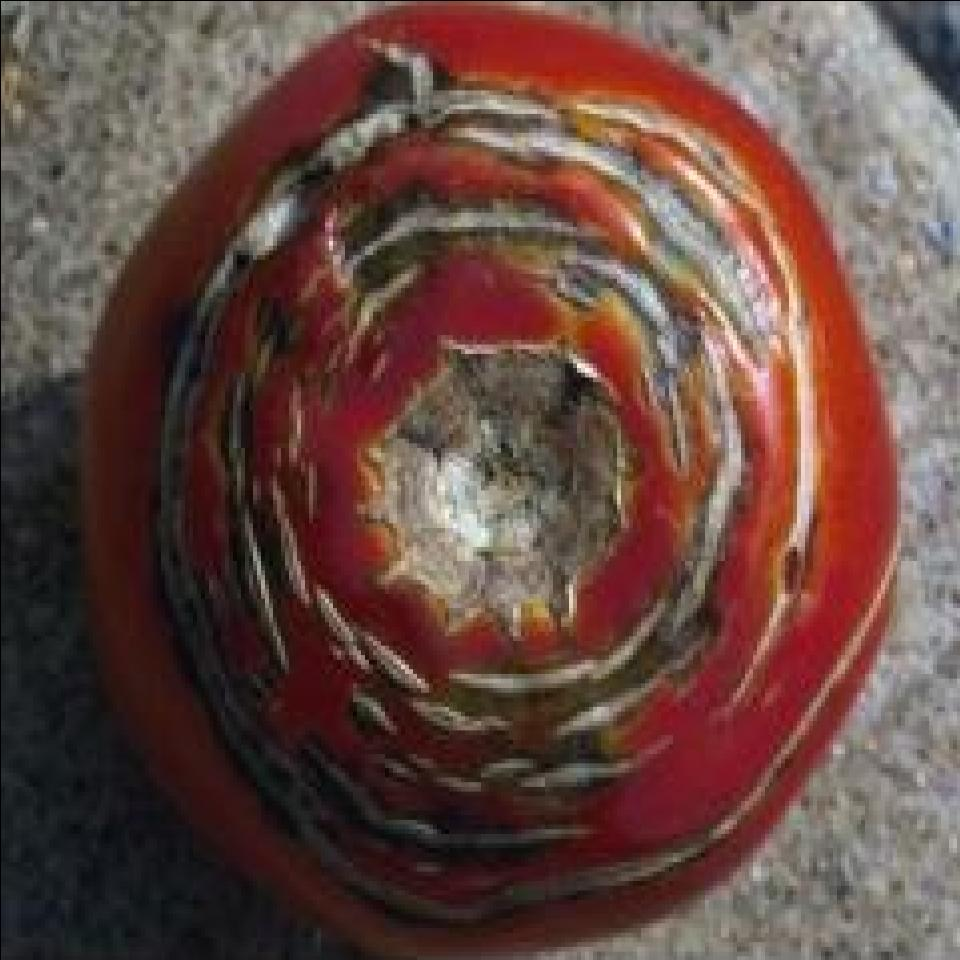Cracking: (137, 33, 886, 925)
